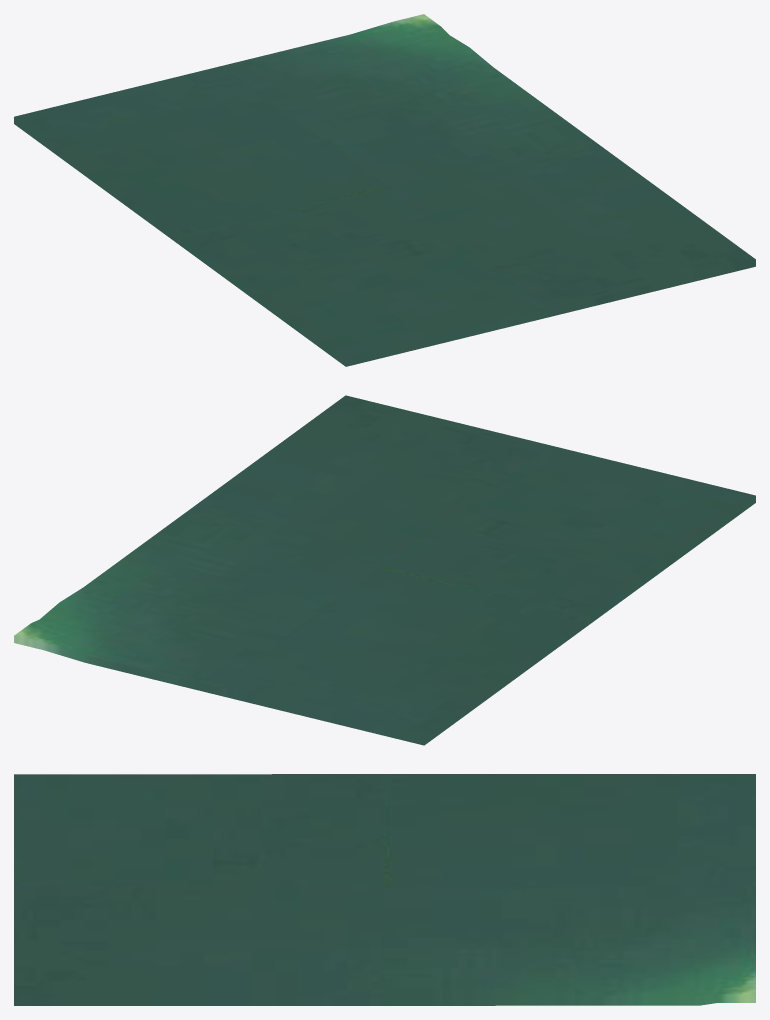
3 views of the same model, one above another, from view 1: azimuth 30°, elevation 25°; view 2: azimuth 150°, elevation 25°; view 3: azimuth 270°, elevation 25° (orthographic). The views are drawn at different scales.
Visible parts, largest first — view 1: 30436272704370635622_0; view 2: 30436272704370635622_0; view 3: 30436272704370635622_0.
Part boxes in pixels (x1=…): 30436272704370635622_0: x1=14, y1=14, x2=755, y2=366; 30436272704370635622_0: x1=14, y1=395, x2=755, y2=745; 30436272704370635622_0: x1=14, y1=774, x2=755, y2=1005.
Bounding box in the file's own units: 27.32 × 0.6338 × 38.26.
Materials: 1 (1 with a texture image).
